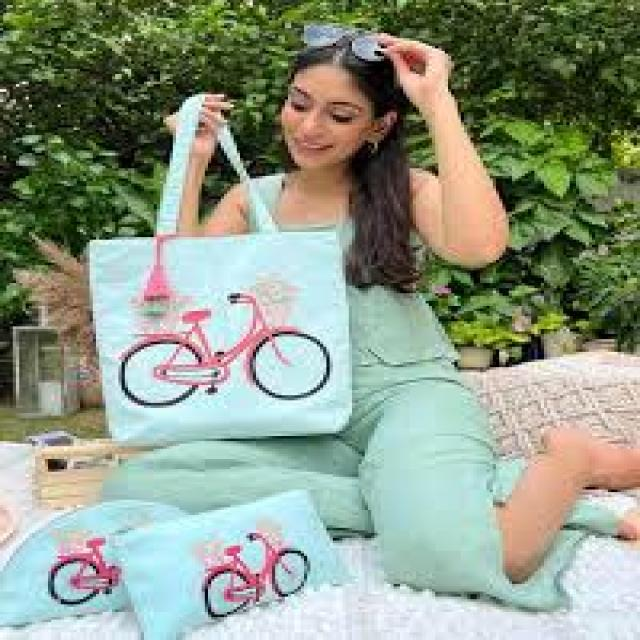handbag: (83, 92, 352, 446)
